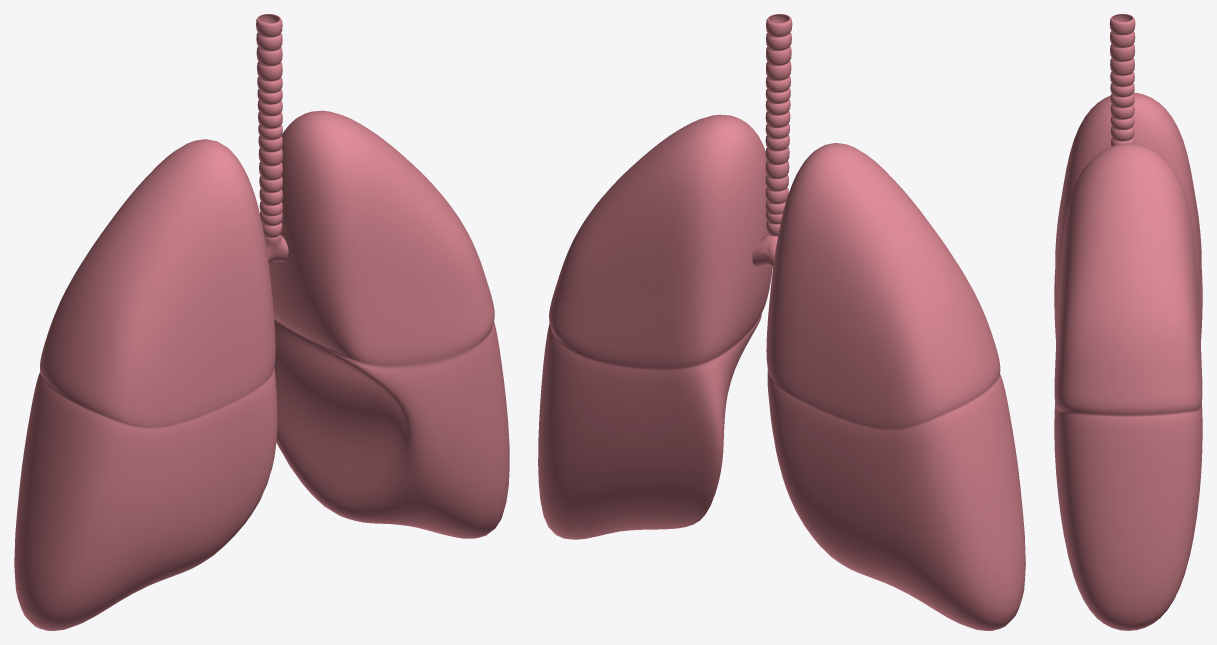
File: EDU_Lungs_20261016.glb
3 renders of one model, left to right at view 1: azimuth 30°, elevation 25°; view 2: azimuth 150°, elevation 25°; view 3: azimuth 270°, elevation 25°, orthographic. The views are drawn at different scales.
Parts seen in each view (by area): view 1: EDU_Lungs_20261016_Part_00_00; view 2: EDU_Lungs_20261016_Part_00_00; view 3: EDU_Lungs_20261016_Part_00_00.
Boxes of the visible parts, x1=… form: EDU_Lungs_20261016_Part_00_00: x1=14, y1=14, x2=509, y2=630; EDU_Lungs_20261016_Part_00_00: x1=538, y1=14, x2=1025, y2=630; EDU_Lungs_20261016_Part_00_00: x1=1054, y1=14, x2=1202, y2=630.
Size of the model in its own units: 0.4777 by 0.55 by 0.1421.
